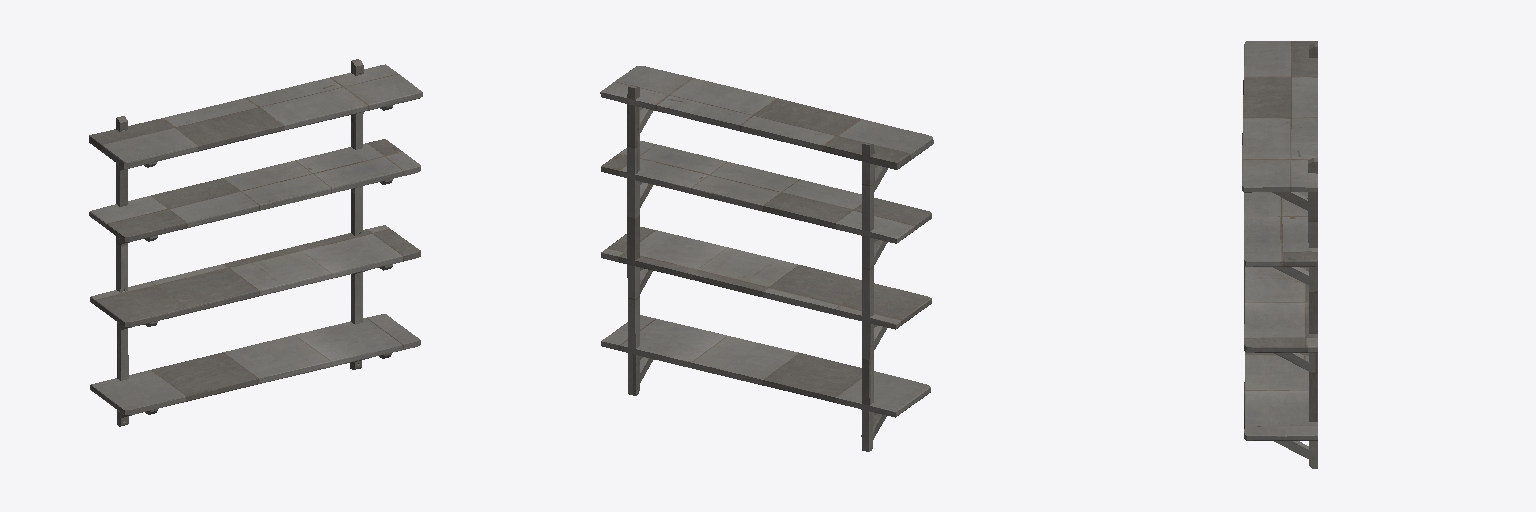
The picture shows the model from 3 angles: view 1: azimuth 30°, elevation 25°; view 2: azimuth 150°, elevation 25°; view 3: azimuth 270°, elevation 25°; orthographic projection.
Visible parts, largest first — view 1: Aset_interior_furniture_M_vmhndfu_00_LOD3; view 2: Aset_interior_furniture_M_vmhndfu_00_LOD3; view 3: Aset_interior_furniture_M_vmhndfu_00_LOD3.
Part boxes in pixels (bbox=[...]): Aset_interior_furniture_M_vmhndfu_00_LOD3: bbox=[89, 59, 422, 426]; Aset_interior_furniture_M_vmhndfu_00_LOD3: bbox=[600, 66, 933, 451]; Aset_interior_furniture_M_vmhndfu_00_LOD3: bbox=[1242, 41, 1317, 468].
Bounding box in the file's own units: 1.1 × 1.08 × 0.2423.
Materials: 1 (1 with a texture image).